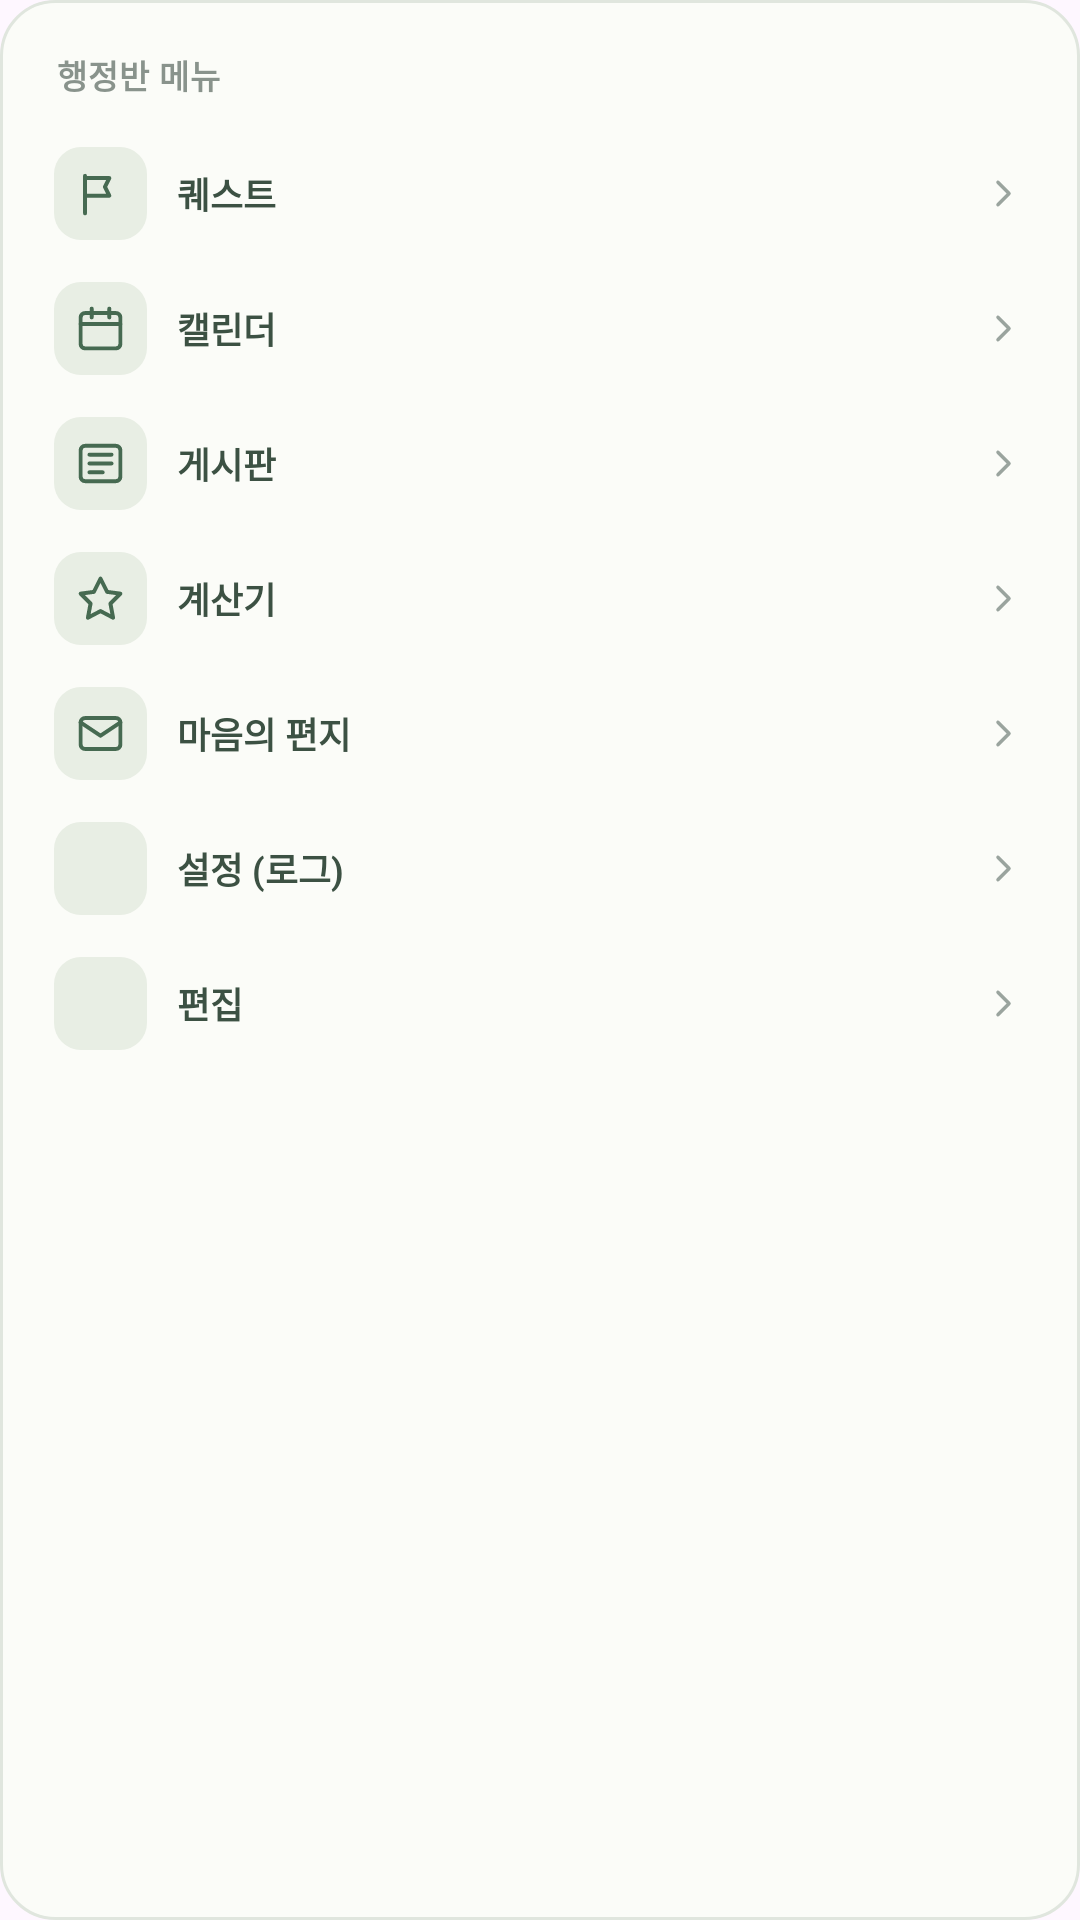

Where to tap for icons on this 1080 × 1920 app screen, as (x,y):
board: (100,463)
calendar: (100,328)
chevron: (1003,193), (1003,328), (1003,463), (1003,598), (1003,733), (1003,868), (1003,1003)
flag: (100,193)
letter: (100,733)
rank: (100,598)
